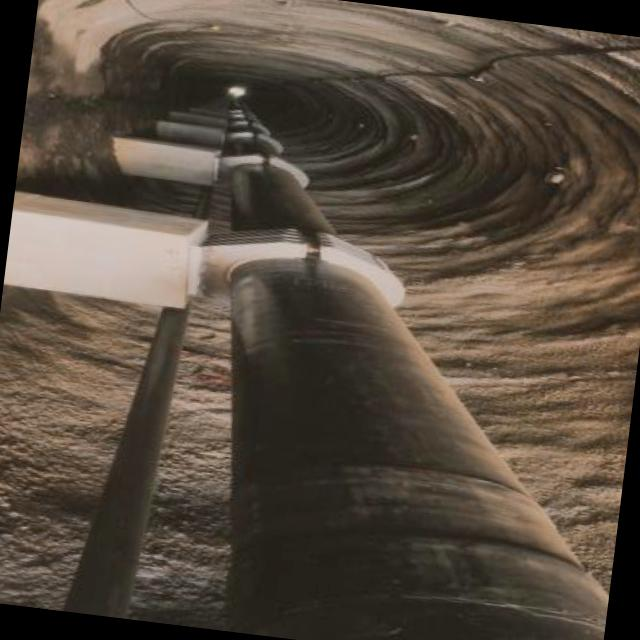gas: (231, 108, 607, 640), (55, 308, 187, 617), (193, 185, 213, 220)
